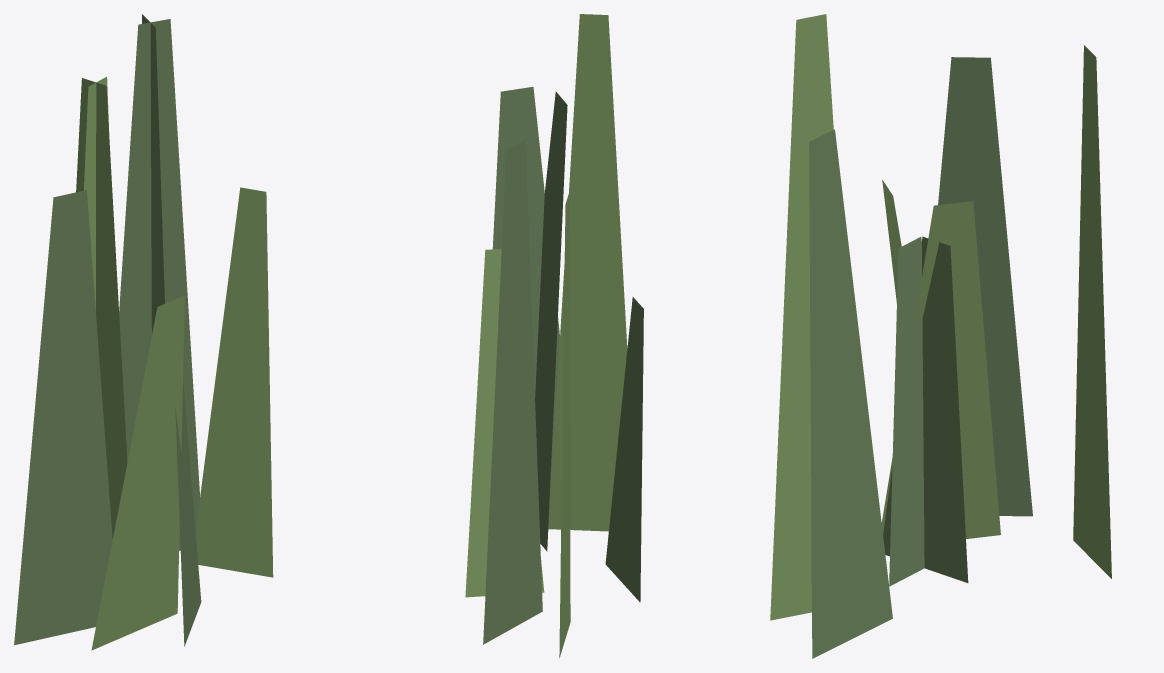
The model's file is nong.dao@subadult__summer.glb.
3 views of the same model, side by side, from view 1: azimuth 30°, elevation 25°; view 2: azimuth 150°, elevation 25°; view 3: azimuth 270°, elevation 25° (orthographic). The views are drawn at different scales.
Parts seen in each view (by area): view 1: nong.dao@subadult__summer; view 2: nong.dao@subadult__summer; view 3: nong.dao@subadult__summer.
Boxes of the visible parts, <box> form: nong.dao@subadult__summer: <box>14,14,273,650</box>; nong.dao@subadult__summer: <box>465,14,643,658</box>; nong.dao@subadult__summer: <box>770,14,1111,658</box>.
Bounding box in the file's own units: 0.3454 × 0.5597 × 0.3268.
